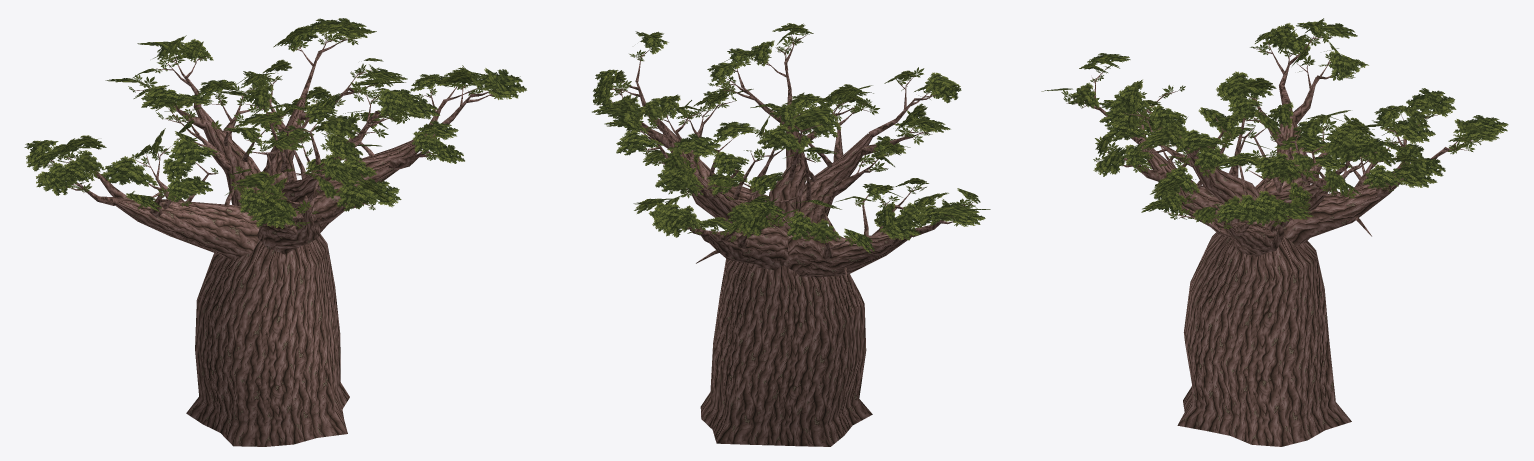
File: Baoba_01_Digitata_Guarda_Sol.glb
3 renders of one model, left to right at view 1: azimuth 30°, elevation 25°; view 2: azimuth 150°, elevation 25°; view 3: azimuth 270°, elevation 25°, orthographic. The views are drawn at different scales.
Parts seen in each view (by area): view 1: Tronco, Tufos da copa, Bracos principais, Folhas palmadas, Ramos secundarios, Ramos finos, Ponteiras; view 2: Tronco, Tufos da copa, Bracos principais, Ramos secundarios, Folhas palmadas, Ramos finos, Ponteiras; view 3: Tufos da copa, Tronco, Bracos principais, Folhas palmadas, Ramos secundarios, Ramos finos, Ponteiras.
Part boxes in pixels (x1,y1,x2,y2): Tronco: [186, 233, 349, 446]; Tufos da copa: [24, 18, 526, 228]; Bracos principais: [115, 99, 431, 259]; Folhas palmadas: [40, 30, 496, 229]; Ramos secundarios: [79, 52, 470, 234]; Ramos finos: [53, 41, 491, 227]; Ponteiras: [48, 37, 494, 225]; Tronco: [700, 259, 872, 446]; Tufos da copa: [592, 23, 990, 253]; Bracos principais: [662, 110, 911, 277]; Ramos secundarios: [636, 63, 943, 260]; Folhas palmadas: [593, 29, 976, 246]; Ramos finos: [612, 42, 952, 249]; Ponteiras: [596, 33, 974, 241]; Tufos da copa: [1041, 18, 1508, 225]; Tronco: [1177, 232, 1351, 446]; Bracos principais: [1137, 102, 1410, 256]; Folhas palmadas: [1061, 25, 1481, 229]; Ramos secundarios: [1099, 63, 1444, 237]; Ramos finos: [1090, 38, 1464, 222]; Ponteiras: [1066, 36, 1480, 225].
Size of the model in its own units: 20.87 by 15.03 by 18.69.
3 materials, 3 textured.
